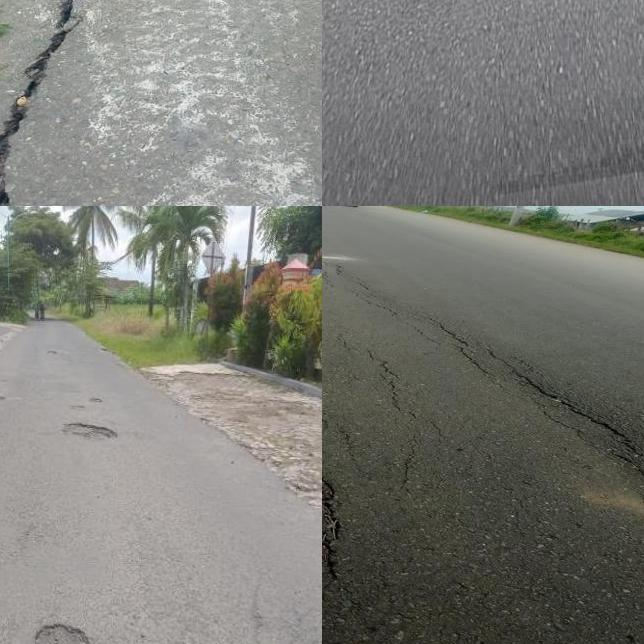Memanjang: (424, 304, 644, 485), (0, 0, 117, 206), (322, 409, 357, 644)
